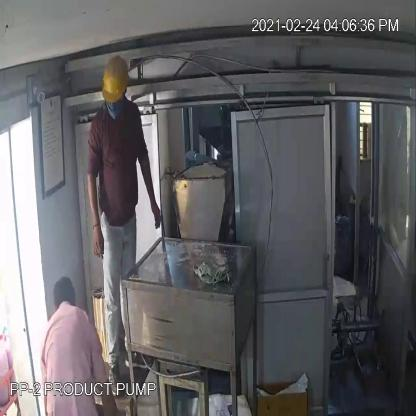helmet: (97, 54, 132, 102)
